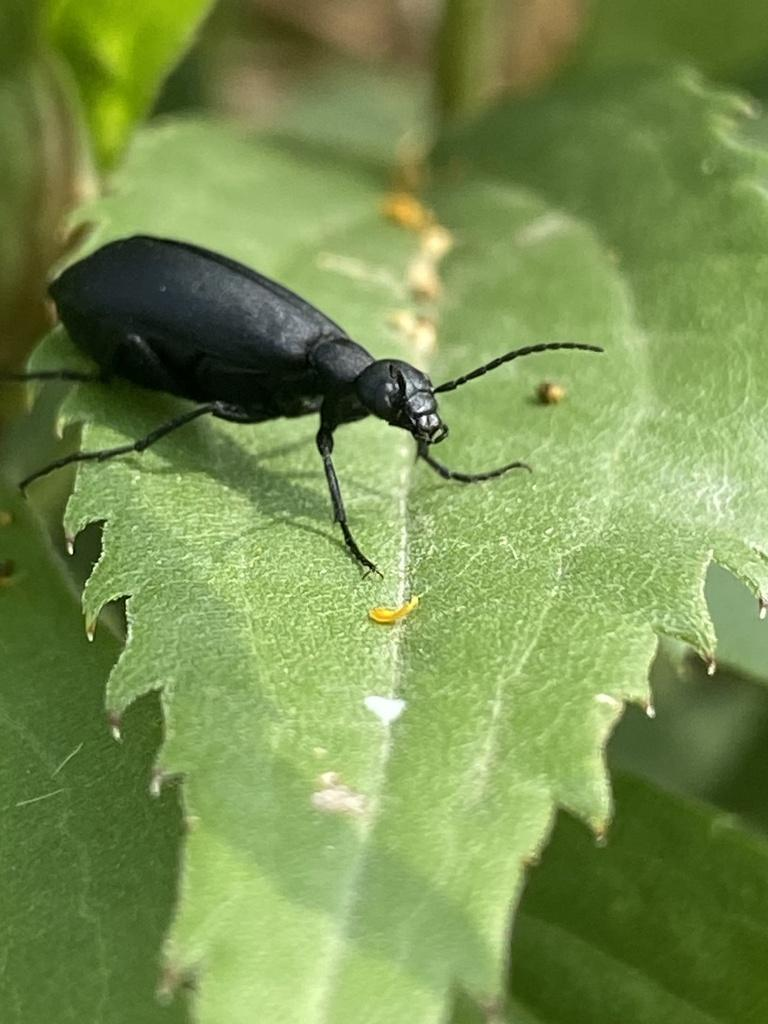blister_beetle: (0, 161, 721, 633)
